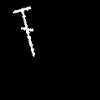double_crochet: (13, 7, 34, 55)
